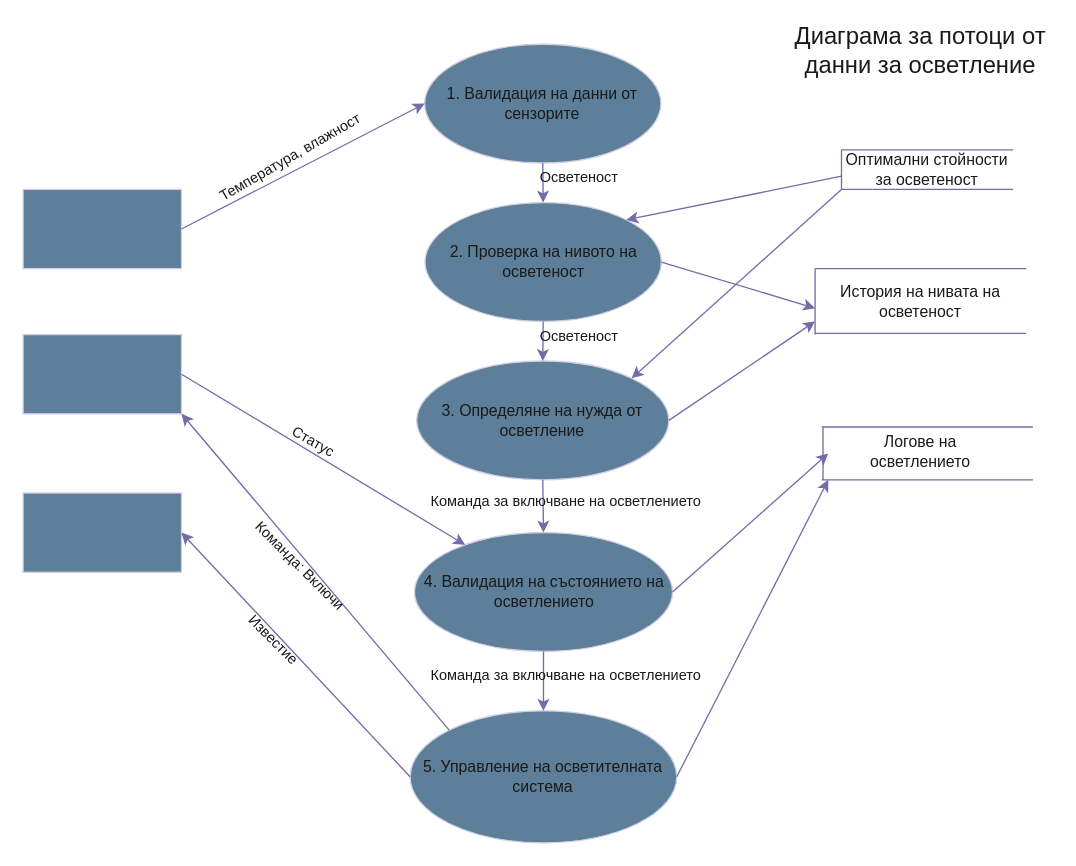
Some shapes in this 1076 by 866 pixel diagram are drawn without their labels. Each missing label, with the centre of its shape:
Потребител: (x=102, y=532)
Сензори: (x=102, y=228)
Система за осветление: (x=102, y=373)
